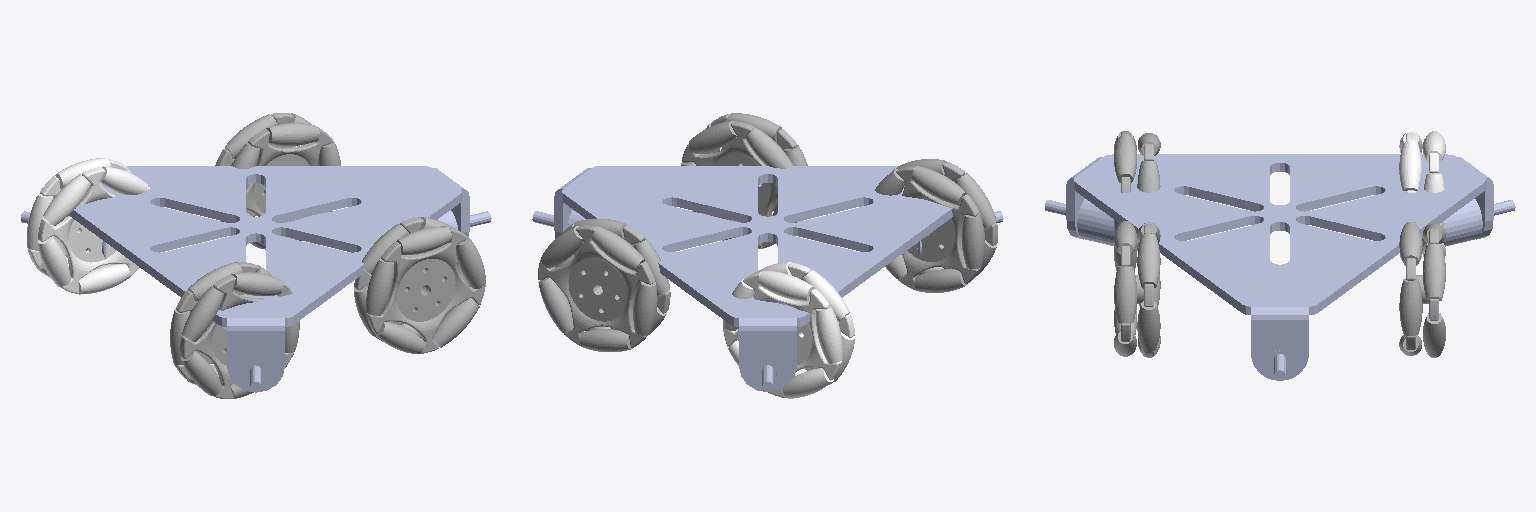
The robot description file, URDF, robot "my_robot":
<?xml version="1.0" encoding="utf-8"?>
<!-- This URDF was automatically created by SolidWorks to URDF Exporter! Originally created by [author] ([email redacted]) 
     Commit Version: 1.6.0-4-g7f85cfe  Build Version: 1.6.7995.38578
     For more information, please see http://wiki.ros.org/sw_urdf_exporter -->
<robot
  name="my_robot">
  <link
    name="base_link">
    <inertial>
      <origin
        xyz="-1.98493976501235E-05 5.55111512312578E-17 -0.0175252786860416"
        rpy="0 0 0" />
      <mass
        value="0.541764702915938" />
      <inertia
        ixx="0.00048985027493215"
        ixy="-1.88596253790601E-19"
        ixz="2.56687973703349E-10"
        iyy="0.000710186871025426"
        iyz="-2.11747209455392E-12"
        izz="0.0010977506590429" />
    </inertial>
    <visual>
      <origin
        xyz="0 0 0"
        rpy="0 0 0" />
      <geometry>
        <mesh
          filename="package://my_robot/meshes/base_link.STL" />
      </geometry>
      <material
        name="">
        <color
          rgba="0.792156862745098 0.819607843137255 0.933333333333333 1" />
      </material>
    </visual>
    <collision>
      <origin
        xyz="0 0 0"
        rpy="0 0 0" />
      <geometry>
        <mesh
          filename="package://my_robot/meshes/base_link.STL" />
      </geometry>
    </collision>
  </link>
  <link
    name="onewheel">
    <inertial>
      <origin
        xyz="4.8699E-07 -4.1096E-05 -0.0065"
        rpy="0 0 0" />
      <mass
        value="0.041916" />
      <inertia
        ixx="5.3458E-06"
        ixy="1.7674E-11"
        ixz="-3.7896E-10"
        iyy="5.3457E-06"
        iyz="-1.4977E-10"
        izz="1.0241E-05" />
    </inertial>
    <visual>
      <origin
        xyz="0 0 0"
        rpy="0 0 0" />
      <geometry>
        <mesh
          filename="package://my_robot/meshes/onewheel.STL" />
      </geometry>
      <material
        name="">
        <color
          rgba="0.75294 0.75294 0.75294 1" />
      </material>
    </visual>
    <collision>
      <origin
        xyz="0 0 0"
        rpy="0 0 0" />
      <geometry>
        <mesh
          filename="package://my_robot/meshes/onewheel.STL" />
      </geometry>
    </collision>
  </link>
  <joint
    name="one_wheel"
    type="continuous">
    <origin
      xyz="0.055 -0.08 -0.0175"
      rpy="1.5708 0 0" />
    <parent
      link="base_link" />
    <child
      link="onewheel" />
    <axis
      xyz="0 0 1" />
    <limit
      effort="10"
      velocity="10" />
    <dynamics
      damping="0.1"
      friction="0.1" />
  </joint>
  <link
    name="twowheel">
    <inertial>
      <origin
        xyz="-1.1222E-05 3.9616E-05 -0.0065"
        rpy="0 0 0" />
      <mass
        value="0.041916" />
      <inertia
        ixx="5.3457E-06"
        ixy="3.5017E-11"
        ixz="3.3351E-10"
        iyy="5.3457E-06"
        iyz="2.5052E-10"
        izz="1.0241E-05" />
    </inertial>
    <visual>
      <origin
        xyz="0 0 0"
        rpy="0 0 0" />
      <geometry>
        <mesh
          filename="package://my_robot/meshes/twowheel.STL" />
      </geometry>
      <material
        name="">
        <color
          rgba="0.75294 0.75294 0.75294 1" />
      </material>
    </visual>
    <collision>
      <origin
        xyz="0 0 0"
        rpy="0 0 0" />
      <geometry>
        <mesh
          filename="package://my_robot/meshes/twowheel.STL" />
      </geometry>
    </collision>
  </link>
  <joint
    name="two_wheel"
    type="continuous">
    <origin
      xyz="-0.055 -0.08 -0.0175"
      rpy="1.5708 0 0" />
    <parent
      link="base_link" />
    <child
      link="twowheel" />
    <axis
      xyz="0 0 1" />
    <limit
      effort="10"
      velocity="10" />
    <dynamics
      damping="0.1"
      friction="0.1" />
  </joint>
  <link
    name="threewheel">
    <inertial>
      <origin
        xyz="-1.8154E-05 -3.706E-05 -0.0065"
        rpy="0 0 0" />
      <mass
        value="0.041916" />
      <inertia
        ixx="5.3459E-06"
        ixy="-4.5424E-11"
        ixz="-4.0627E-10"
        iyy="5.3458E-06"
        iyz="4.4134E-11"
        izz="1.0241E-05" />
    </inertial>
    <visual>
      <origin
        xyz="0 0 0"
        rpy="0 0 0" />
      <geometry>
        <mesh
          filename="package://my_robot/meshes/threewheel.STL" />
      </geometry>
      <material
        name="">
        <color
          rgba="0.75294 0.75294 0.75294 1" />
      </material>
    </visual>
    <collision>
      <origin
        xyz="0 0 0"
        rpy="0 0 0" />
      <geometry>
        <mesh
          filename="package://my_robot/meshes/threewheel.STL" />
      </geometry>
    </collision>
  </link>
  <joint
    name="three_wheel"
    type="continuous">
    <origin
      xyz="0.055 0.08 -0.0175"
      rpy="1.5708 0 3.1416" />
    <parent
      link="base_link" />
    <child
      link="threewheel" />
    <axis
      xyz="0 0 1" />
    <limit
      effort="10"
      velocity="10" />
    <dynamics
      damping="0.1"
      friction="0.1" />
  </joint>
  <link
    name="fourwheel">
    <inertial>
      <origin
        xyz="0 0 0"
        rpy="0 0 0" />
      <mass
        value="0" />
      <inertia
        ixx="0"
        ixy="0"
        ixz="0"
        iyy="0"
        iyz="0"
        izz="0" />
    </inertial>
    <visual>
      <origin
        xyz="0 0 0"
        rpy="0 0 0" />
      <geometry>
        <mesh
          filename="package://my_robot/meshes/fourwheel.STL" />
      </geometry>
      <material
        name="">
        <color
          rgba="1 1 1 1" />
      </material>
    </visual>
    <collision>
      <origin
        xyz="0 0 0"
        rpy="0 0 0" />
      <geometry>
        <mesh
          filename="package://my_robot/meshes/fourwheel.STL" />
      </geometry>
    </collision>
  </link>
  <joint
    name="four_wheel"
    type="continuous">
    <origin
      xyz="-0.055 0.08 -0.0175"
      rpy="1.5708 0 3.1416" />
    <parent
      link="base_link" />
    <child
      link="fourwheel" />
    <axis
      xyz="0 0 1" />
    <limit
      effort="10"
      velocity="10" />
    <dynamics
      damping="0.1"
      friction="0.1" />
  </joint>

  <gazebo reference="base_link">
    <mu1>200</mu1>
    <mu2>200</mu2>
    <kp>1000000</kp>
    <kd>1</kd>
    <material>Gazebo/Green</material>
  </gazebo>

  <gazebo reference="onewheel">
    <mu1>200</mu1>
    <mu2>200</mu2>
    <kp>1000000</kp>
    <kd>1</kd>
    <material>Gazebo/Gray</material>
  </gazebo>

    <gazebo reference="twowheel">
    <mu1>200</mu1>
    <mu2>200</mu2>
    <kp>1000000</kp>
    <kd>1</kd>
    <material>Gazebo/Gray</material>
  </gazebo>

  <gazebo reference="threewheel">
    <mu1>200</mu1>
    <mu2>200</mu2>
    <kp>1000000</kp>
    <kd>1</kd>
    <material>Gazebo/Gray</material>
  </gazebo>

  <gazebo reference="fourwheel">
    <mu1>200</mu1>
    <mu2>200</mu2>
    <kp>1000000</kp>
    <kd>1</kd>
    <material>Gazebo/Gray</material>
  </gazebo>

  <gazebo>
    <plugin name="skid_steer_drive_controller" filename="libgazebo_ros_skid_steer_drive.so">
      <updateRate>100.0</updateRate>
      <robotNamespace>/</robotNamespace>
      <leftFrontJoint>one_wheel</leftFrontJoint>
      <rightFrontJoint>two_wheel</rightFrontJoint>
      <leftRearJoint>three_wheel</leftRearJoint>
      <rightRearJoint>four_wheel</rightRearJoint>
      <!-- kinematics -->
      <wheel_separation>0.15</wheel_separation>
      <wheel_diameter>0.06</wheel_diameter>
 
      <!-- limits -->
      <max_wheel_torque>20</max_wheel_torque>
      <max_wheel_acceleration>20.0</max_wheel_acceleration>
 
      <!-- Receive velocity commands on this ROS topic -->
      <command_topic>cmd_vel</command_topic>
 
      <!-- output -->
      <!-- When false, publish no wheel odometry data to a ROS topic -->
      <publish_odom>true</publish_odom>
 
      <!-- When true, publish coordinate transform from odom to base_footprint -->
      <!-- I usually use the robot_localization package to publish this transform -->  
      <publish_odom_tf>true</publish_odom_tf>
     
      <!-- When true, publish coordinate transform from base_link to the wheels -->
      <!-- The robot_state_publisher package is often used to publish this transform -->  
      <publish_wheel_tf>true</publish_wheel_tf>
 
      <odometry_topic>odom</odometry_topic>
      <odometry_frame>odom_link</odometry_frame>
      <robot_base_frame>base_link</robot_base_frame>
 
      <odometry_source>1</odometry_source>
      <ros>
        <remapping>odom:=wheel/odometry</remapping>
      </ros>
    </plugin>
  </gazebo>

  <gazebo>
    <plugin name="gazebo_ros_joint_state_publisher" filename="libgazebo_ros_joint_state_publisher.so">
      <update_rate>100</update_rate>
      <joint_name>one_wheel</joint_name>
      <joint_name>two_wheel</joint_name>
      <joint_name>three_wheel</joint_name>
      <joint_name>three_wheel</joint_name>
    </plugin>
  </gazebo>
</robot>

--- Render facts (derived) ---
The picture shows the robot from 3 angles, left to right: view 1: azimuth 30°, elevation 25°; view 2: azimuth 150°, elevation 25°; view 3: azimuth 270°, elevation 25°; orthographic projection.
Model my_robot with 5 links and 4 joints (4 continuous), rooted at base_link, posed all joints at 0.
Links seen in each view (by area): view 1: base_link, onewheel, fourwheel, twowheel, threewheel; view 2: base_link, threewheel, twowheel, fourwheel, onewheel; view 3: base_link, onewheel, threewheel, fourwheel, twowheel.
Link boxes in pixels (<box>): base_link: <box>21,166,491,392</box>; onewheel: <box>354,217,485,353</box>; fourwheel: <box>27,158,149,294</box>; twowheel: <box>170,262,299,398</box>; threewheel: <box>215,113,340,249</box>; base_link: <box>532,166,1003,391</box>; threewheel: <box>538,219,670,351</box>; twowheel: <box>875,159,997,292</box>; fourwheel: <box>723,262,854,398</box>; onewheel: <box>681,113,807,248</box>; base_link: <box>1045,154,1515,380</box>; onewheel: <box>1114,221,1160,357</box>; threewheel: <box>1399,222,1445,357</box>; fourwheel: <box>1399,131,1445,261</box>; twowheel: <box>1114,131,1160,250</box>.
Size in the robot's own frame: 0.2286 by 0.2426 by 0.0706 metres.
Meshes: 5 distinct files referenced, 5 mesh visuals loaded (5 binary STL).